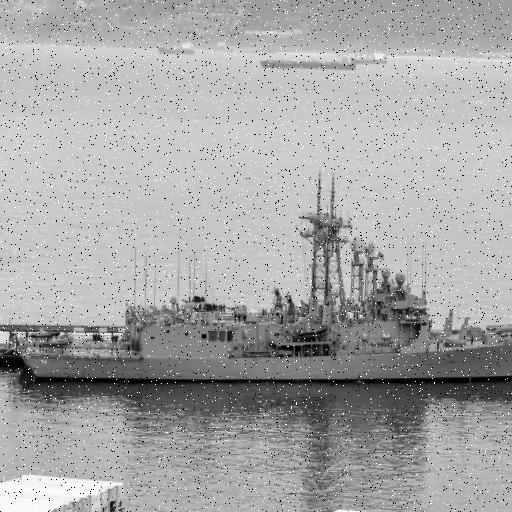Fragata: (15, 171, 512, 391)
